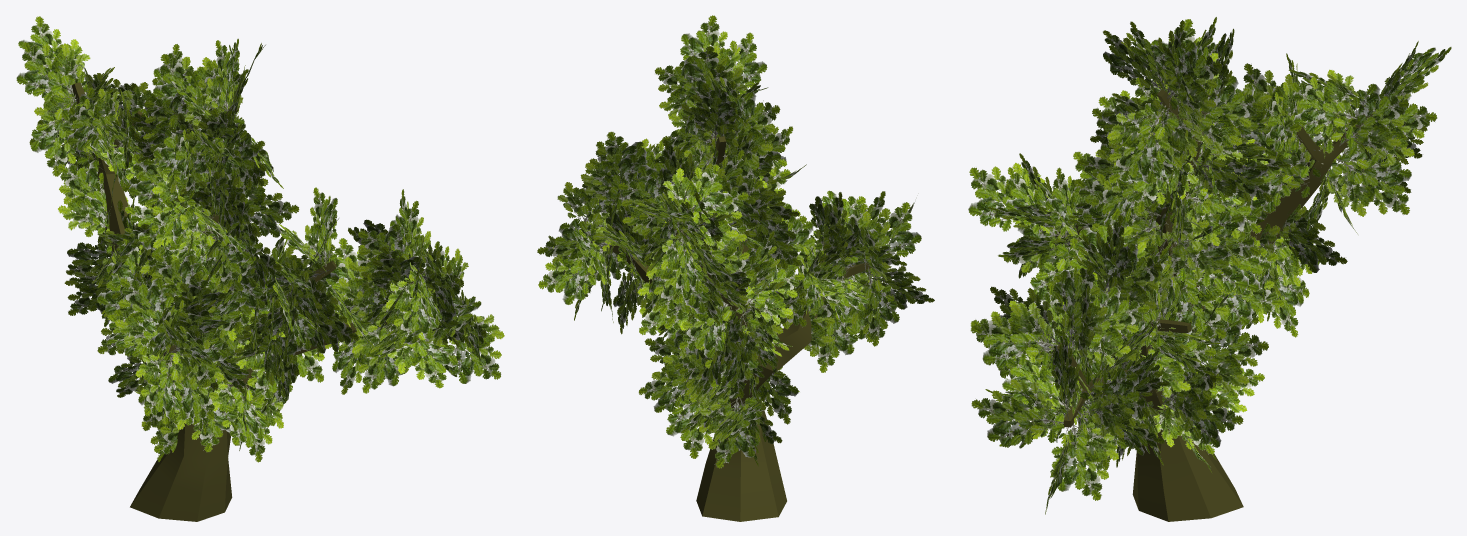
The model's file is BeechLower 1.fbx.
3 renders of one model, left to right at view 1: azimuth 30°, elevation 25°; view 2: azimuth 150°, elevation 25°; view 3: azimuth 270°, elevation 25°, orthographic. The views are drawn at different scales.
Visible parts, largest first — view 1: Leaves, Trunk; view 2: Leaves, Trunk; view 3: Leaves, Trunk.
Boxes of the visible parts, bbox=[...] form: Leaves: bbox=[16, 16, 504, 462]; Trunk: bbox=[72, 82, 457, 521]; Leaves: bbox=[537, 15, 934, 468]; Trunk: bbox=[591, 135, 871, 521]; Leaves: bbox=[968, 17, 1451, 514]; Trunk: bbox=[1052, 89, 1380, 521].
Size of the model in its own units: 5.73 by 6.59 by 5.67.
Materials: 2 (1 with a texture image).
